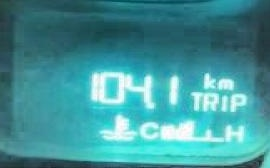-: (144, 100, 155, 108)
0: (97, 69, 122, 103)
1: (165, 72, 179, 106), (87, 69, 97, 102)
4: (122, 73, 150, 102)
X: (222, 118, 243, 143), (137, 118, 158, 138), (229, 93, 245, 112), (199, 69, 215, 88), (202, 92, 215, 111), (189, 89, 200, 109), (217, 75, 232, 89), (219, 93, 225, 110)
